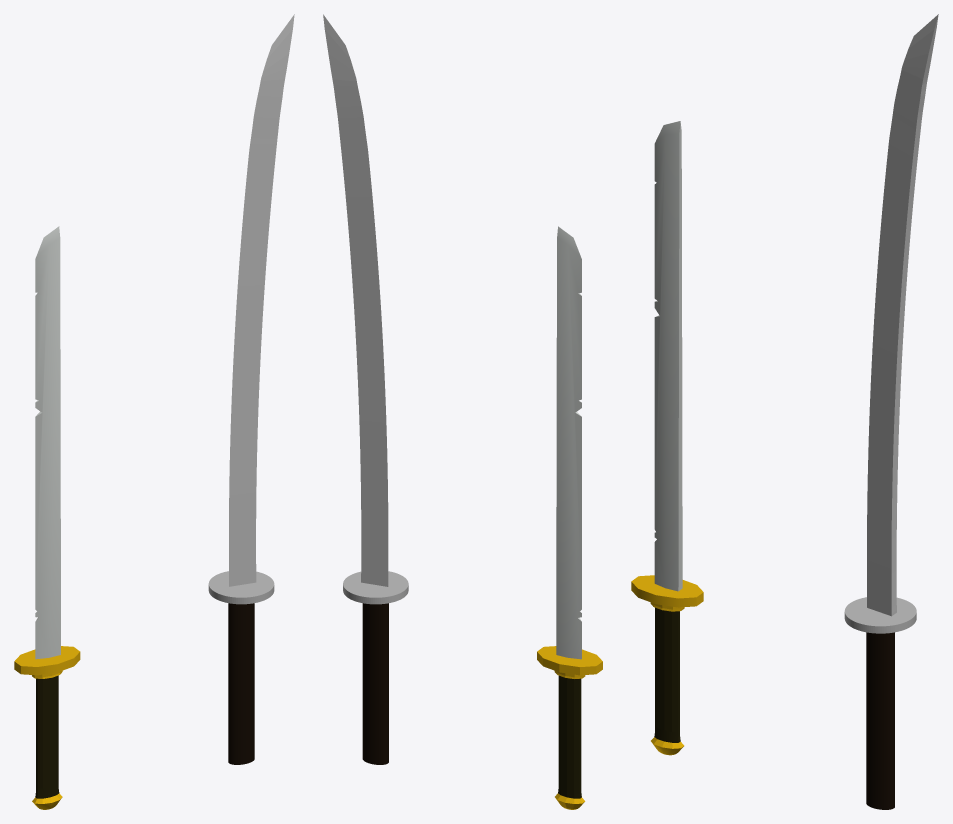
File: Sværd Camilla.M.fbx
3 views of the same model, side by side, from view 1: azimuth 30°, elevation 25°; view 2: azimuth 150°, elevation 25°; view 3: azimuth 330°, elevation 25° (orthographic). The views are drawn at different scales.
Visible parts, largest first — view 1: blade, Handle; view 2: blade, Handle; view 3: blade, Handle.
Boxes of the visible parts, x1,y1,x2,y2 form: blade: [208, 14, 294, 764]; Handle: [14, 226, 80, 809]; blade: [323, 14, 408, 764]; Handle: [537, 226, 602, 809]; blade: [844, 14, 938, 809]; Handle: [631, 121, 703, 755].
Bounding box in the file's own units: 418 × 1058 × 85.57.
